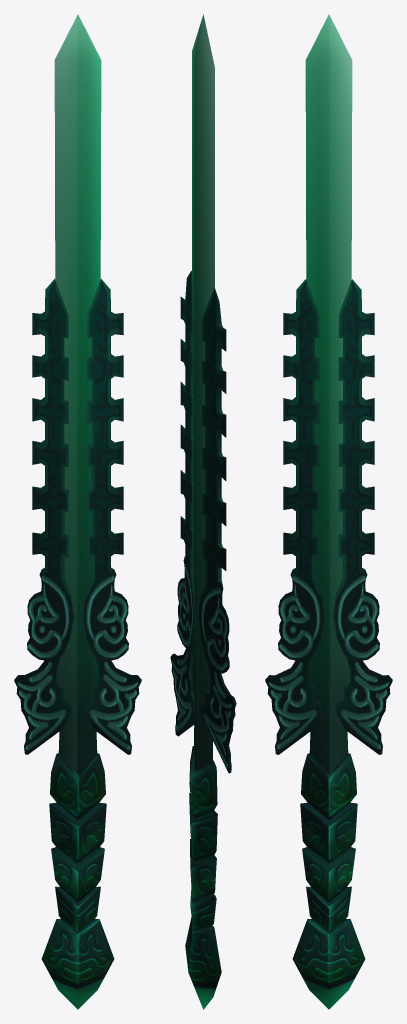
The model's file is liecangqiong.FBX.
3 renders of one model, left to right at view 1: azimuth 90°, elevation 25°; view 2: azimuth 210°, elevation 25°; view 3: azimuth 270°, elevation 25°, orthographic.
Parts seen in each view (by area): view 1: Object63; view 2: Object63; view 3: Object63.
Part boxes in pixels (<box>): Object63: <box>14,14,141,1009</box>; Object63: <box>170,14,236,1009</box>; Object63: <box>265,14,392,1009</box>.
Size of the model in its own units: 3.11 by 97.85 by 11.36.
1 material, 1 textured.
